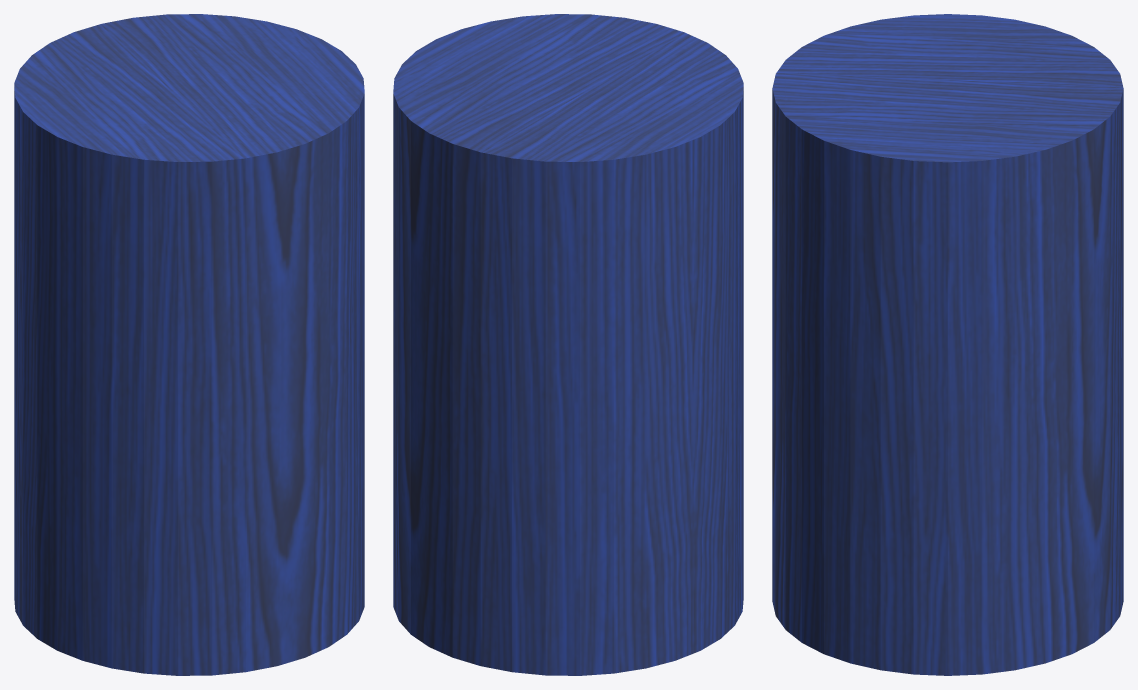
The model's file is blockB.obj.
3 renders of one model, left to right at view 1: azimuth 30°, elevation 25°; view 2: azimuth 150°, elevation 25°; view 3: azimuth 270°, elevation 25°, orthographic.
Parts seen in each view (by area): view 1: 円柱; view 2: 円柱; view 3: 円柱.
Part boxes in pixels (<box>): 円柱: <box>14,14,364,675</box>; 円柱: <box>393,14,743,675</box>; 円柱: <box>772,14,1123,675</box>.
Bounding box in the file's own units: 1.43 × 2.3 × 1.43.
